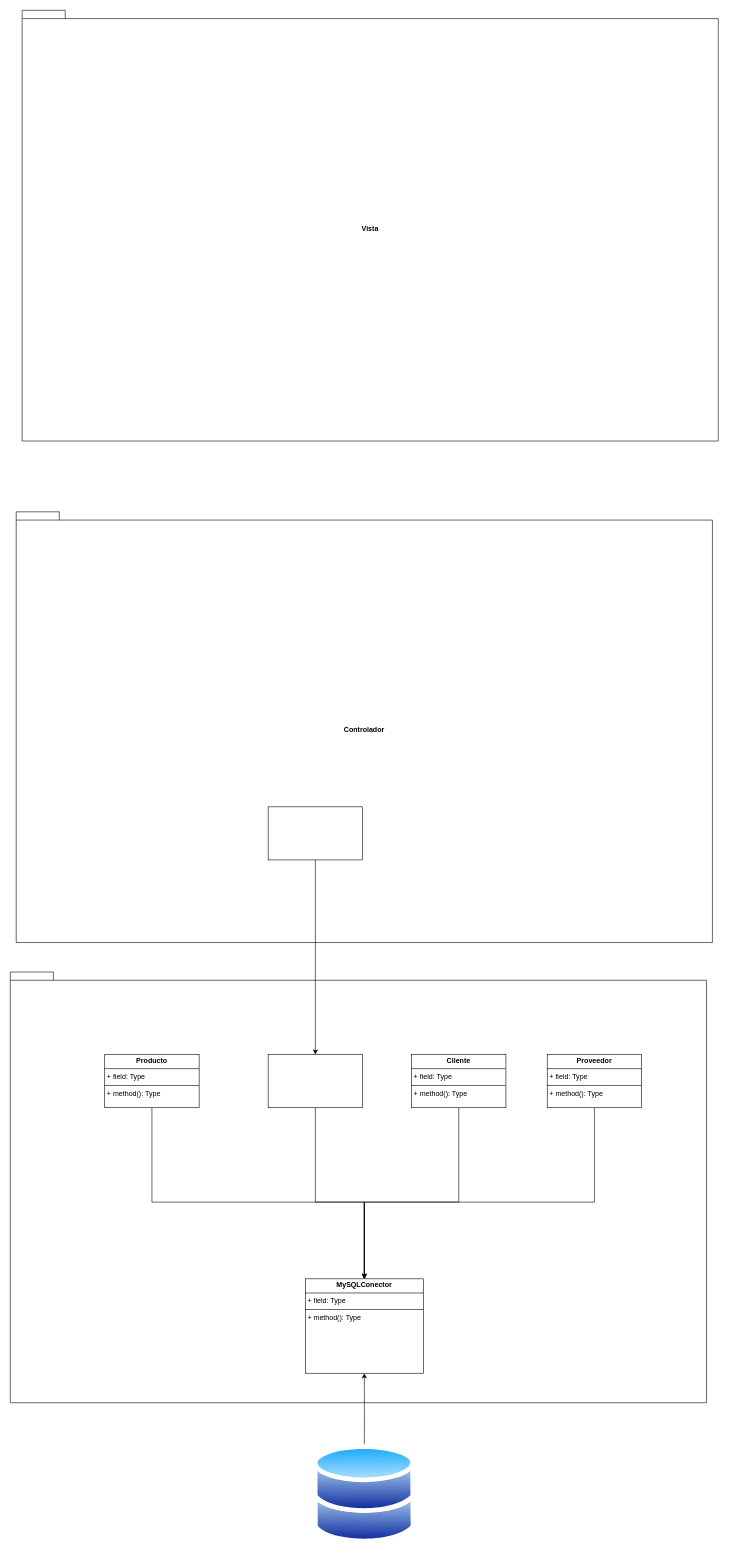
This 729x1555 diagram has some shape labels left out. The shapes that lost their labels are listed below. From the top down, each one's box as (x1, y1, x2, y2) in pixels, then its label:
(268, 806, 363, 860): ControladorLogin + field: Type + method(): Type
(268, 1054, 363, 1108): Vendedor + field: Type + method(): Type
(10, 971, 707, 1403): MODELO
